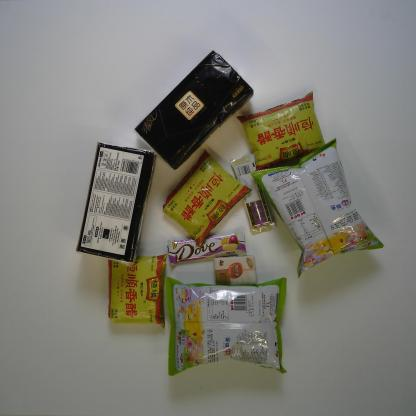Chocolate: (230, 152, 277, 236), (166, 230, 248, 266)
Puffed Food: (250, 136, 385, 280), (164, 276, 288, 376)
Seasoner: (162, 148, 253, 249), (235, 90, 326, 171), (107, 253, 167, 330)
Tissue: (133, 49, 255, 171), (74, 141, 158, 269), (213, 253, 258, 286)
